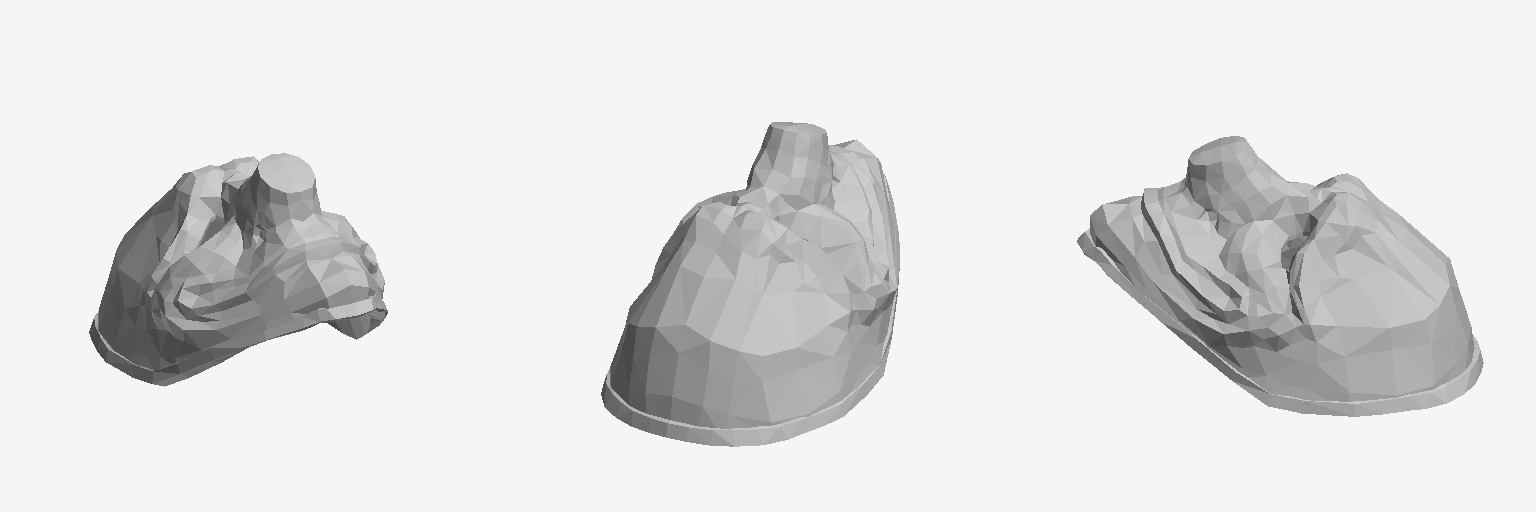
Rendered from Houston.obj.
3 views of the same model, side by side, from view 1: azimuth 30°, elevation 25°; view 2: azimuth 150°, elevation 25°; view 3: azimuth 270°, elevation 25° (orthographic).
Parts seen in each view (by area): view 1: model-0.001; view 2: model-0.001; view 3: model-0.001.
Boxes of the visible parts, x1,y1,x2,y2 form: model-0.001: [89, 153, 387, 386]; model-0.001: [601, 122, 899, 446]; model-0.001: [1077, 136, 1483, 416].
Bounding box in the file's own units: 19.27 × 18.56 × 30.08.